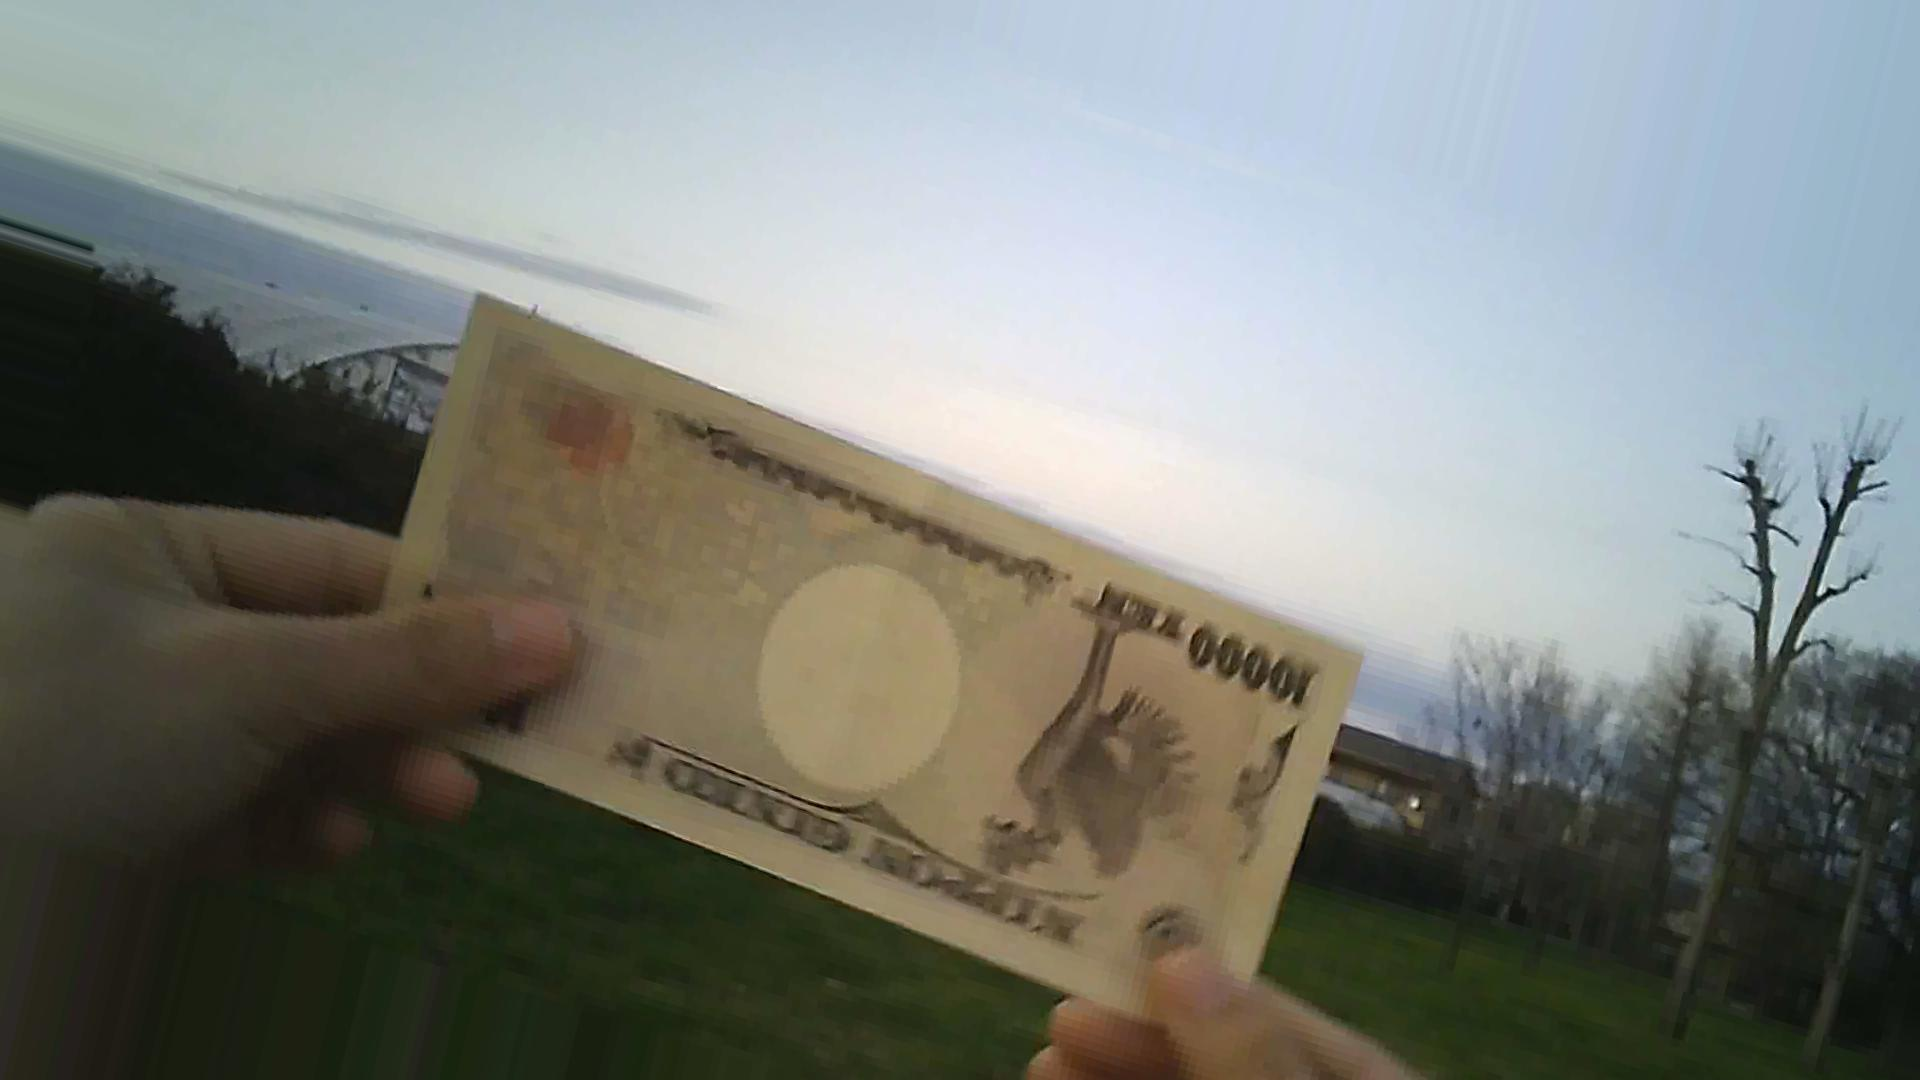10,000 Yen: (361, 276, 1378, 1010)
